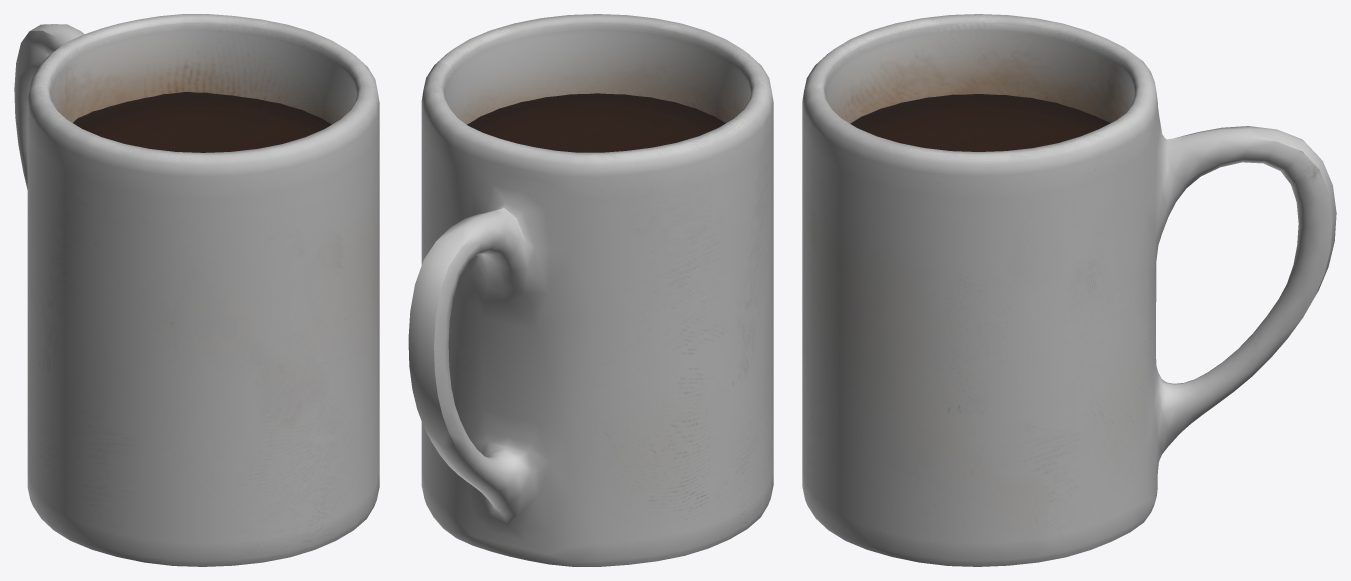
Rendered from coffee_cup.glb.
3 views of the same model, side by side, from view 1: azimuth 30°, elevation 25°; view 2: azimuth 150°, elevation 25°; view 3: azimuth 270°, elevation 25° (orthographic).
Parts seen in each view (by area): view 1: coffee_cup; view 2: coffee_cup; view 3: coffee_cup.
Boxes of the visible parts, x1=… form: coffee_cup: x1=14, y1=14, x2=379, y2=566; coffee_cup: x1=408, y1=14, x2=773, y2=566; coffee_cup: x1=802, y1=14, x2=1336, y2=566.
Size of the model in its own units: 0.0976 by 0.1254 by 0.1478.
1 material, 1 textured.
